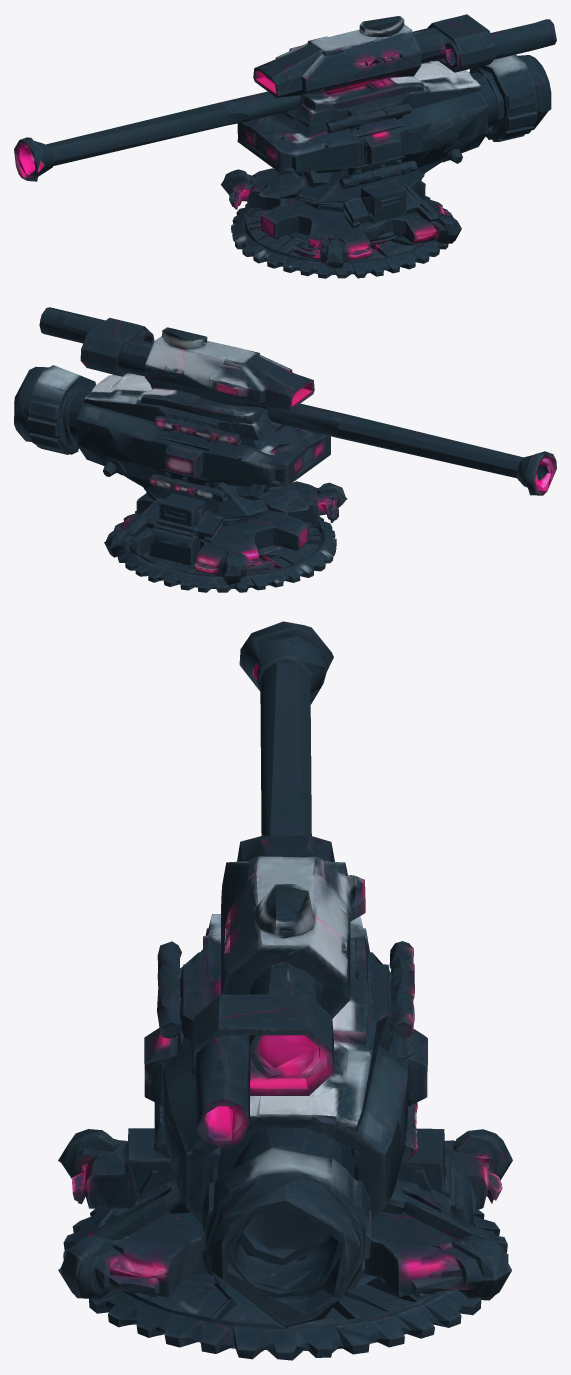
File: mx_sg_cannon.glb
3 renders of one model, top to bottom at view 1: azimuth 30°, elevation 25°; view 2: azimuth 150°, elevation 25°; view 3: azimuth 270°, elevation 25°, orthographic. The views are drawn at different scales.
Bounding box in the file's own units: 1.9 × 0.719 × 0.7317.
Materials: 1 (1 with a texture image).
